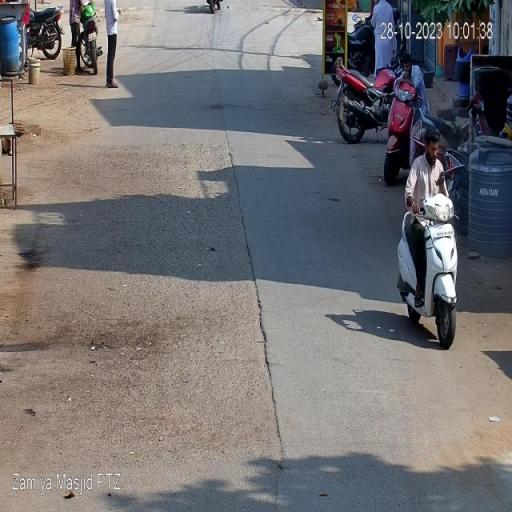using mobile: (436, 162, 448, 192)
